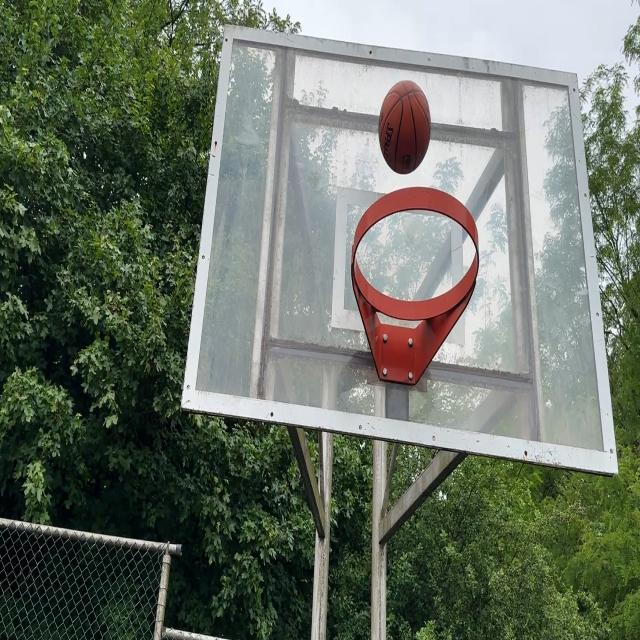Basketball: (376, 82, 429, 177)
